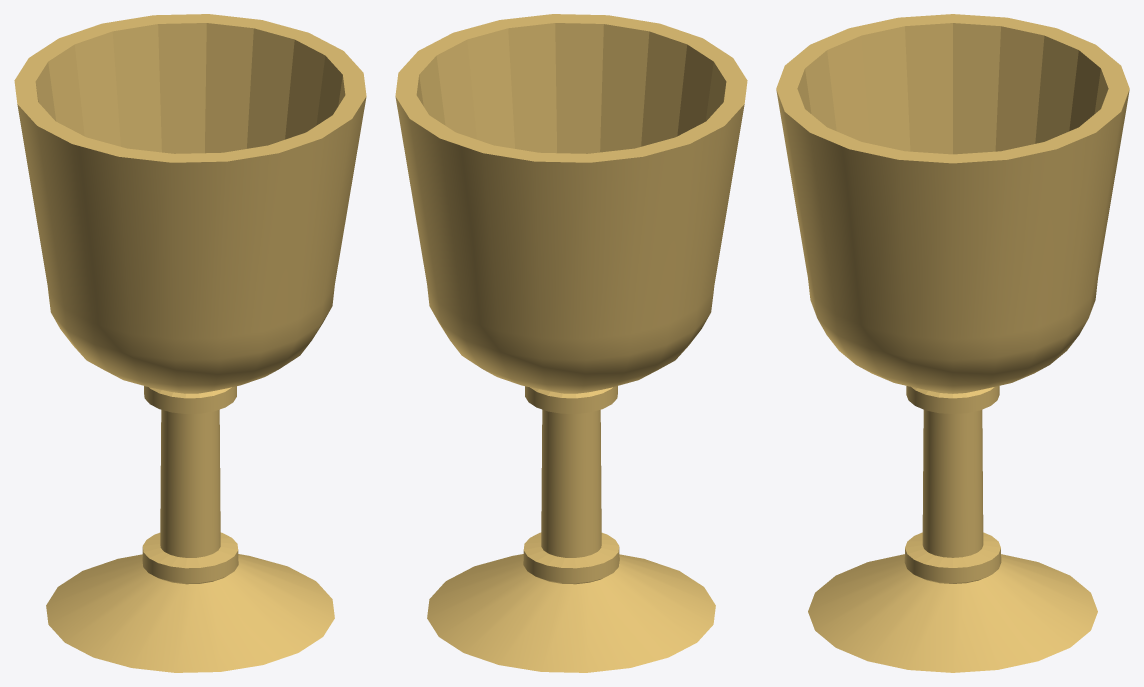
The model's file is CALIZ.fbx.
The picture shows the model from 3 angles, left to right: view 1: azimuth 30°, elevation 25°; view 2: azimuth 150°, elevation 25°; view 3: azimuth 270°, elevation 25°; orthographic projection.
Visible parts, largest first — view 1: Caliz1:pCylinder1; view 2: Caliz1:pCylinder1; view 3: Caliz1:pCylinder1.
Part boxes in pixels (box(x1,y1,x2,y2)): Caliz1:pCylinder1: box(14, 14, 366, 672); Caliz1:pCylinder1: box(395, 14, 747, 672); Caliz1:pCylinder1: box(776, 14, 1129, 672).
Size of the model in its own units: 0.1907 by 0.3112 by 0.1907.
